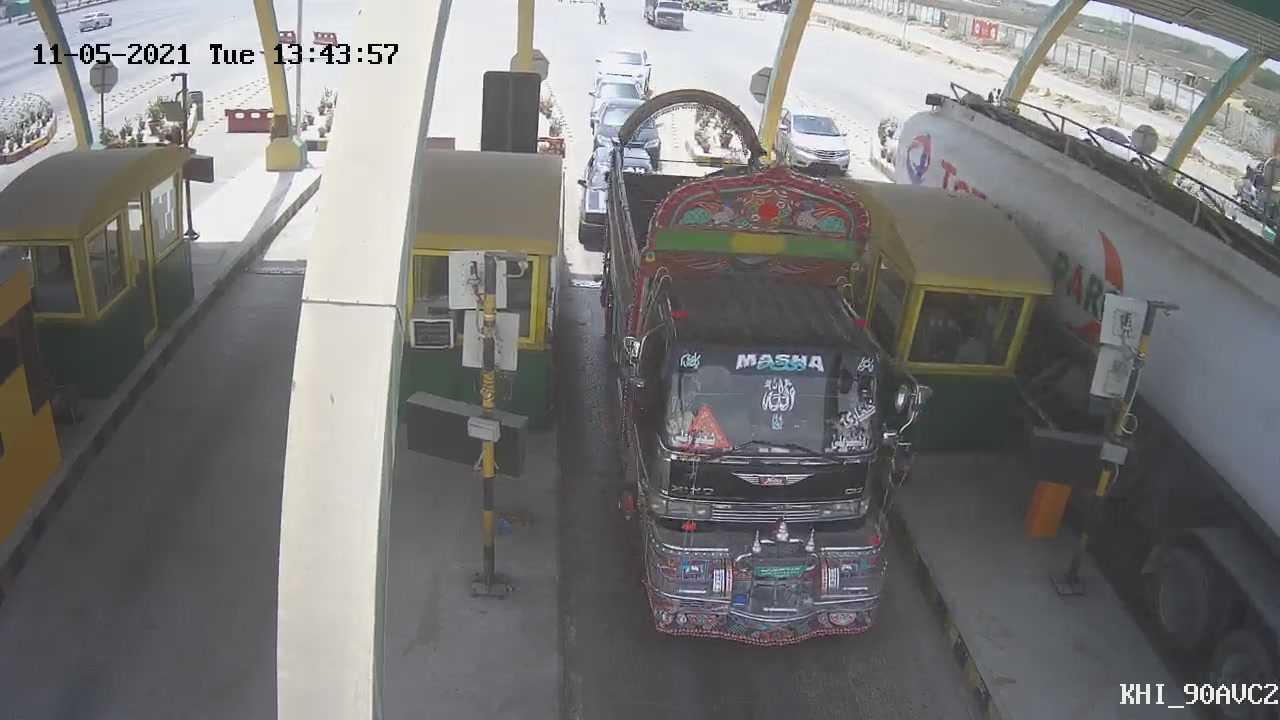F5: (586, 86, 926, 662)
